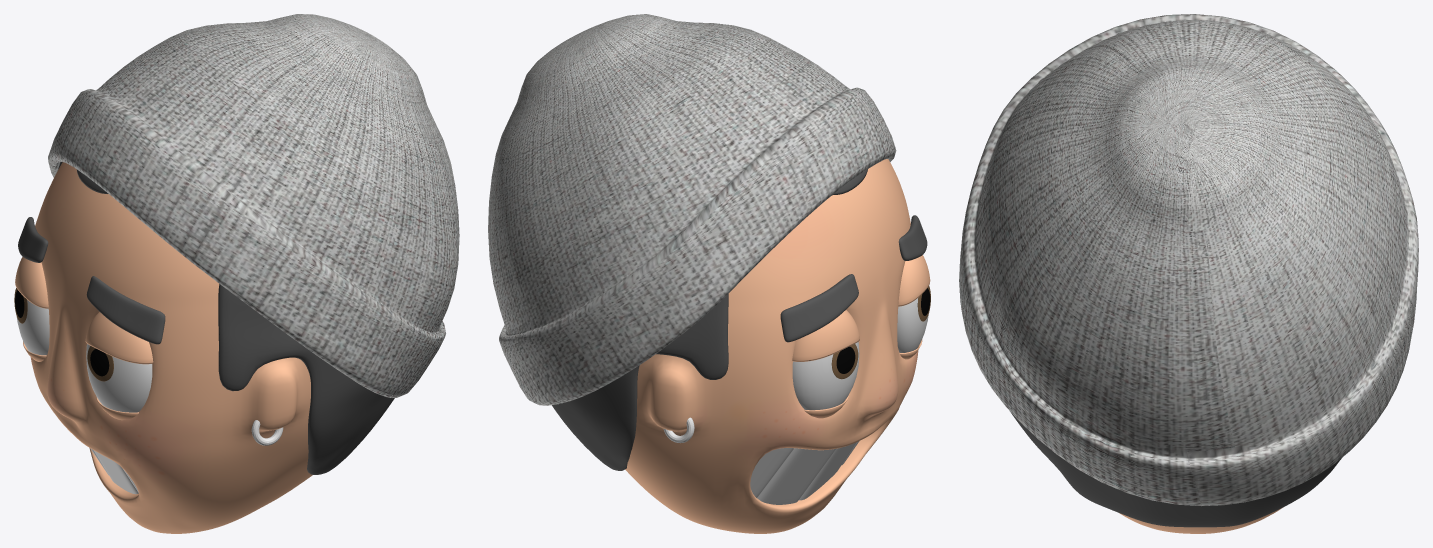
File: faceV5.gltf
3 renders of one model, left to right at view 1: azimuth 30°, elevation 25°; view 2: azimuth 150°, elevation 25°; view 3: azimuth 270°, elevation 25°, orthographic. The views are drawn at different scales.
Parts seen in each view (by area): view 1: Sphere, Head.001, Hairs, Eyes.001, Eyebrows, Eyes.002, Pupill, Cube.001; view 2: Sphere, Head.001, Hairs, Eyes.001, Eyebrows, Eyes.002, Cube, Pupill, Cube.002, Cube.001; view 3: Sphere, Hairs, Head.001.
Boxes of the visible parts, <box> form: Sphere: <box>48,14,459,397</box>; Head.001: <box>30,162,312,533</box>; Hairs: <box>58,162,394,474</box>; Eyes.001: <box>16,300,152,412</box>; Eyebrows: <box>18,217,165,344</box>; Eyes.002: <box>15,257,153,364</box>; Pupill: <box>14,288,113,381</box>; Cube.001: <box>93,450,138,494</box>; Sphere: <box>488,14,896,405</box>; Head.001: <box>625,159,918,533</box>; Hairs: <box>552,169,867,470</box>; Eyes.001: <box>792,298,928,410</box>; Eyebrows: <box>780,215,927,342</box>; Eyes.002: <box>792,255,930,361</box>; Cube: <box>757,448,835,504</box>; Pupill: <box>831,286,930,379</box>; Cube.002: <box>750,448,793,497</box>; Cube.001: <box>799,442,856,500</box>; Sphere: <box>959,14,1418,506</box>; Hairs: <box>1010,411,1342,527</box>; Head.001: <box>1119,507,1283,533</box>.
Size of the model in its own units: 1.91 by 2.2 by 1.8.
Materials: 7 (2 with a texture image).
